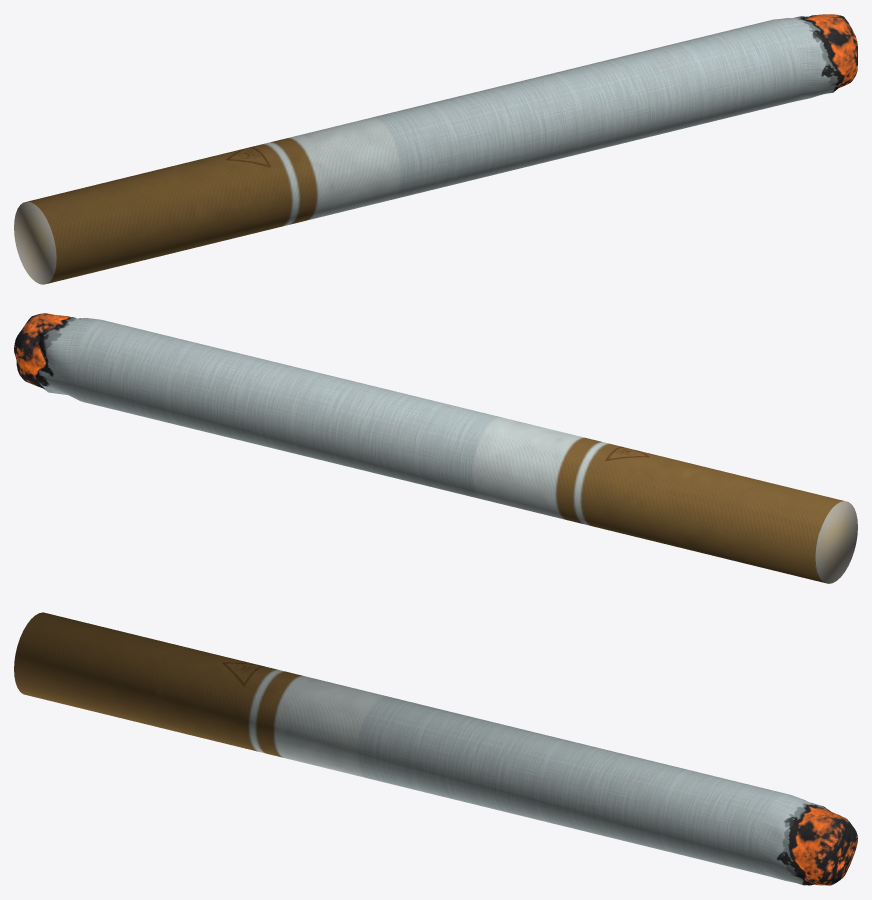
Rendered from asset.gltf.
3 views of the same model, one above another, from view 1: azimuth 30°, elevation 25°; view 2: azimuth 150°, elevation 25°; view 3: azimuth 330°, elevation 25° (orthographic).
Parts seen in each view (by area): view 1: defaultMaterial; view 2: defaultMaterial; view 3: defaultMaterial.
Boxes of the visible parts, x1,y1,x2,y2 form: defaultMaterial: (14, 14, 857, 284); defaultMaterial: (14, 313, 857, 583); defaultMaterial: (14, 612, 857, 885).
Bounding box in the file's own units: 2.07 × 0.1866 × 0.1865.
1 material, 1 textured.
